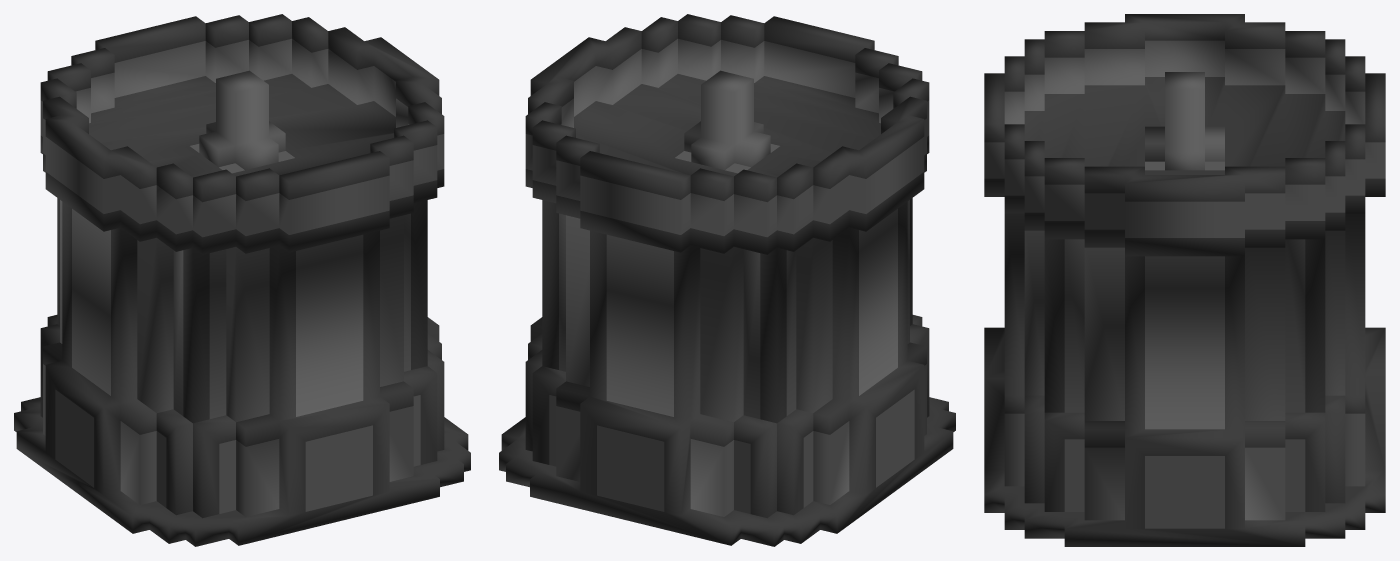
File: TurretBase.fbx
The picture shows the model from 3 angles, left to right: view 1: azimuth 30°, elevation 25°; view 2: azimuth 150°, elevation 25°; view 3: azimuth 270°, elevation 25°; orthographic projection. The views are drawn at different scales.
Visible parts, largest first — view 1: TurretBase; view 2: TurretBase; view 3: TurretBase.
Part boxes in pixels (x1,y1,x2,y2): TurretBase: (14, 14, 470, 546); TurretBase: (499, 14, 955, 546); TurretBase: (984, 14, 1385, 546).
Bounding box in the file's own units: 2000 × 2100 × 2000.
